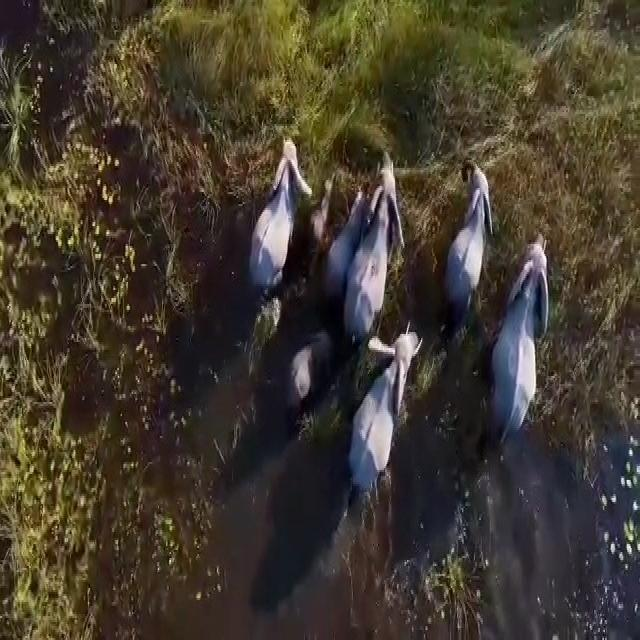Elephant: (493, 229, 556, 469), (351, 328, 432, 514), (346, 149, 402, 356), (257, 135, 309, 318), (448, 170, 494, 307), (284, 340, 345, 406), (332, 183, 366, 282)
